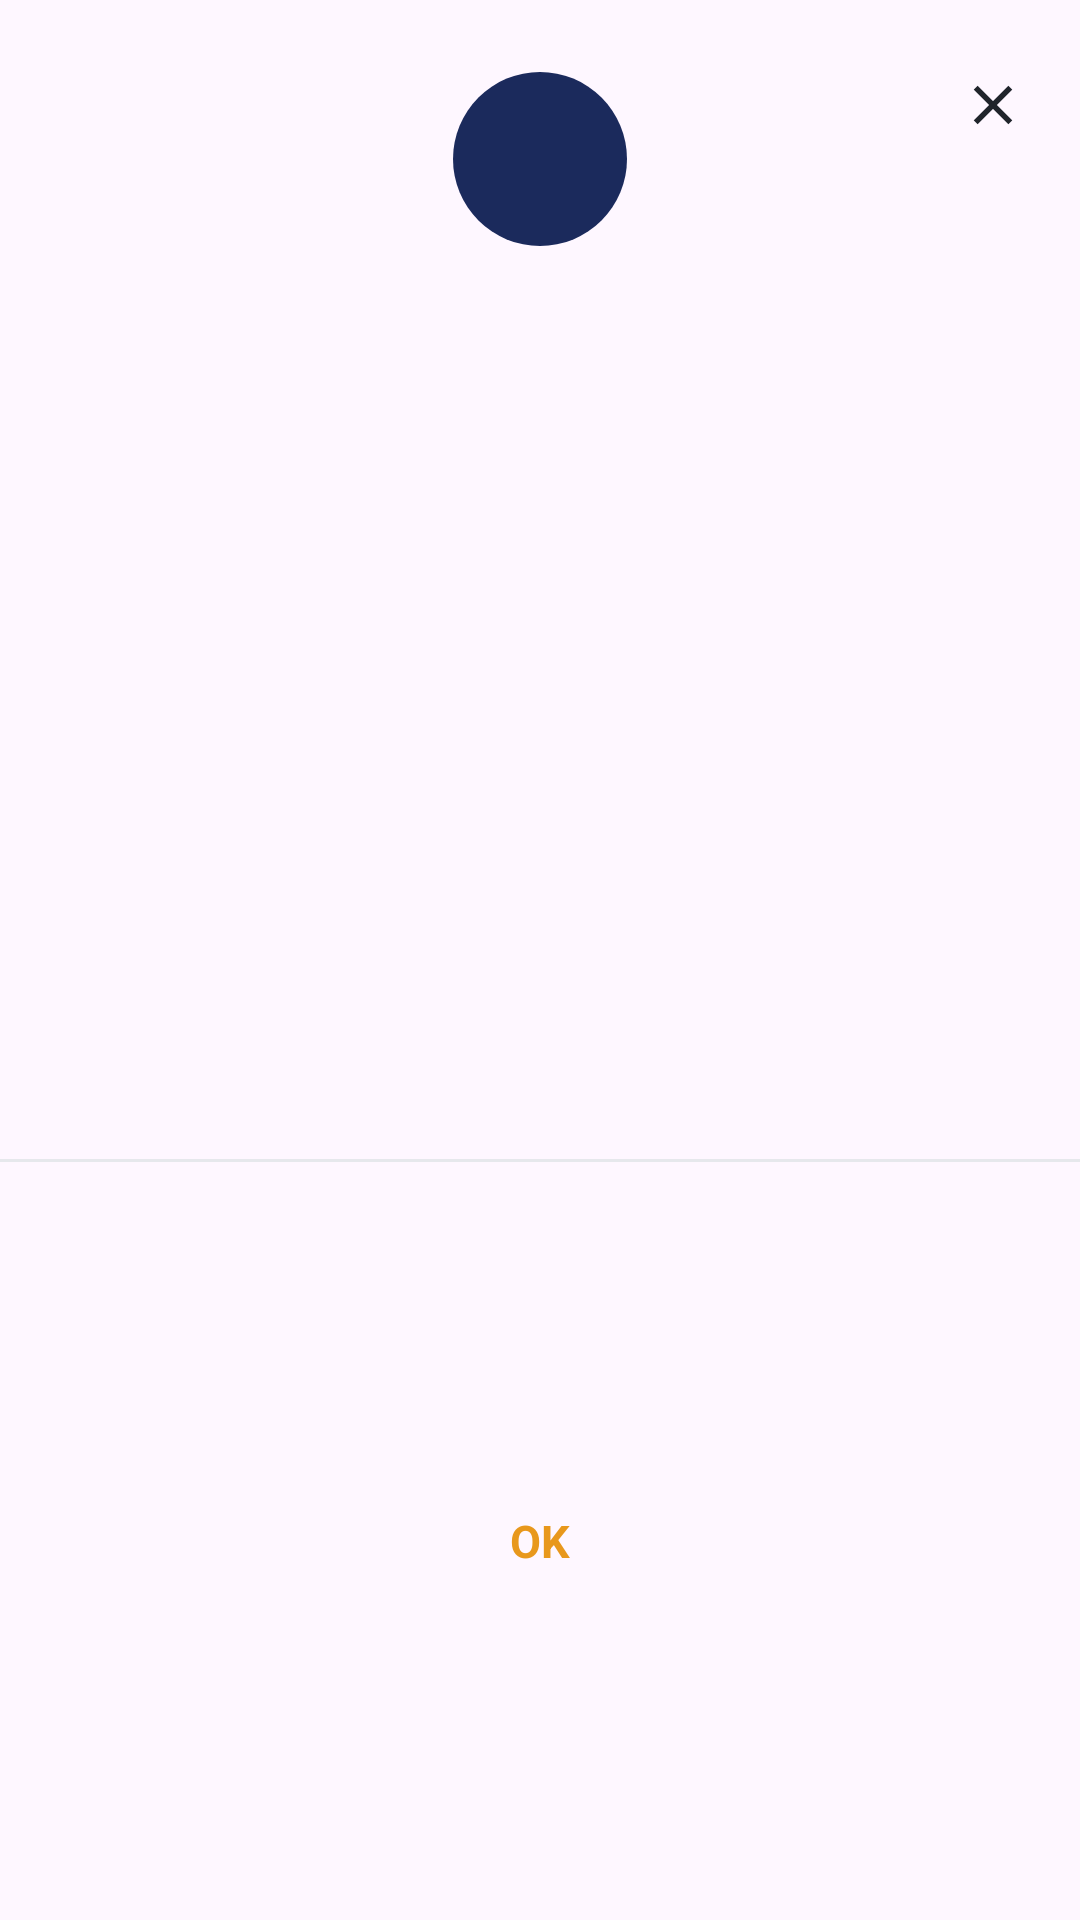

Named icons in this screenshot (1080px×1920px) and their bounding boxes, (left=x1, top=y1, right=x2, bottom=y2):
Close: (left=974, top=86, right=1012, bottom=124)
